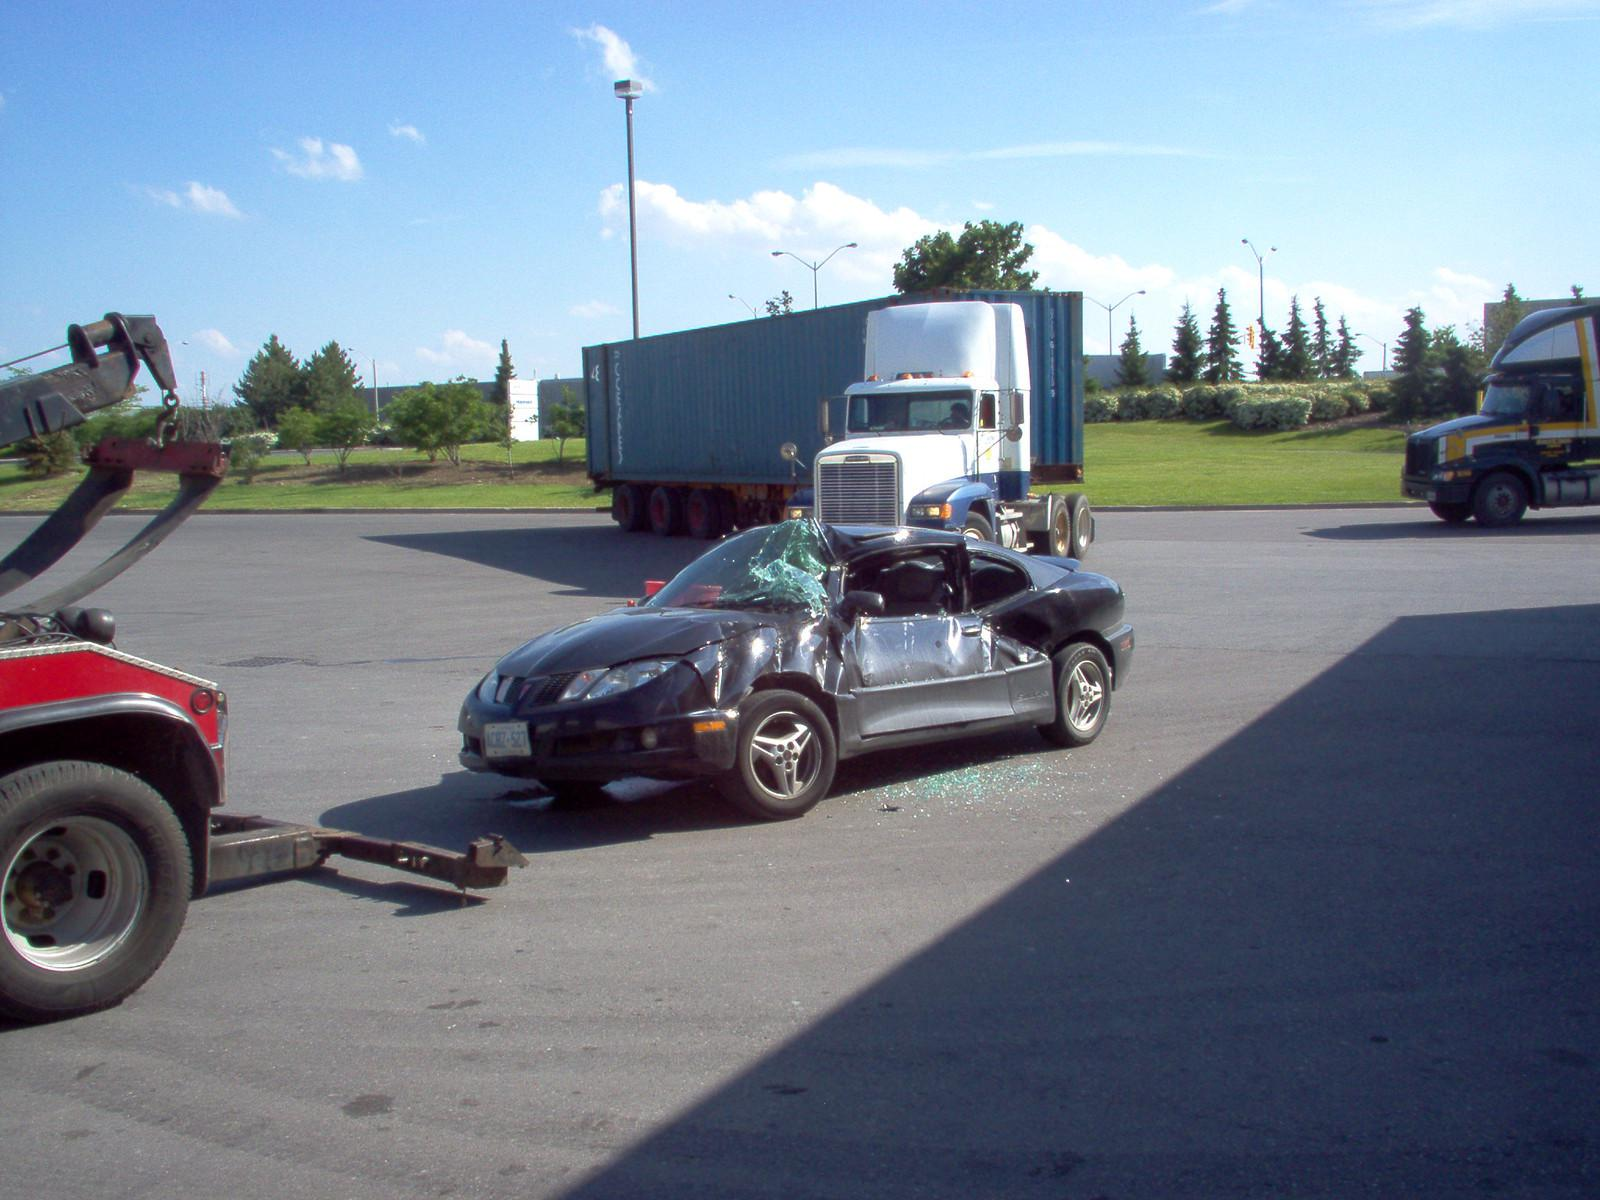Front-Windscreen-Damage: (671, 500, 816, 603)
doorouter-dent: (850, 557, 973, 717)
